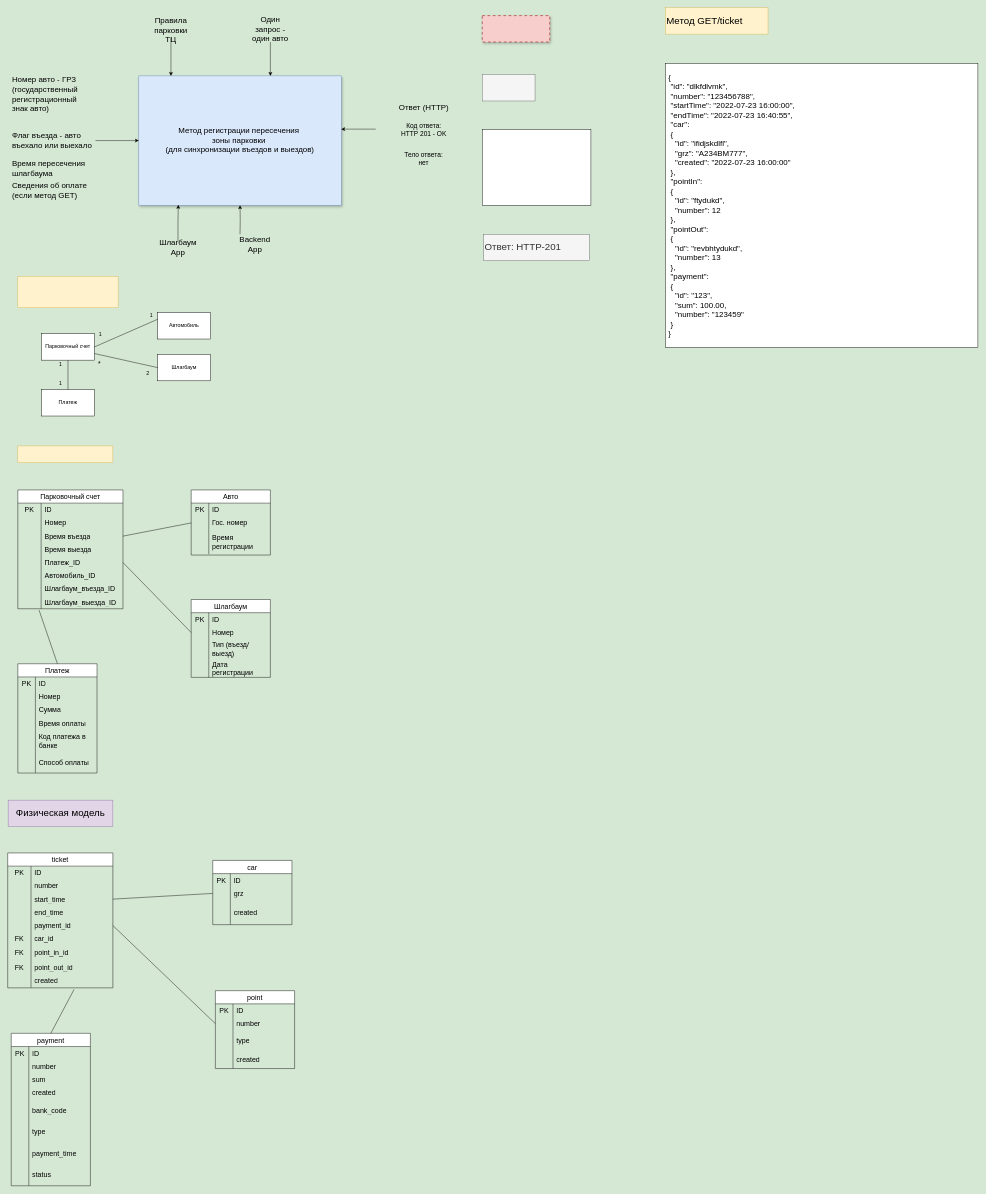
Some shapes in this 986 by 1194 pixel diagram are drawn without their labels. The centre of each missing label's shape, as x and y in pixels:
{ "startTime": "2022-07-23 16:00:00", "car": { "grz": "А234ВМ777" } }: (536,167)
Запрос: (508,87)
Концептуальная модель: (67,292)
Логическая модель: (65,454)
Метод POST: (516,29)
